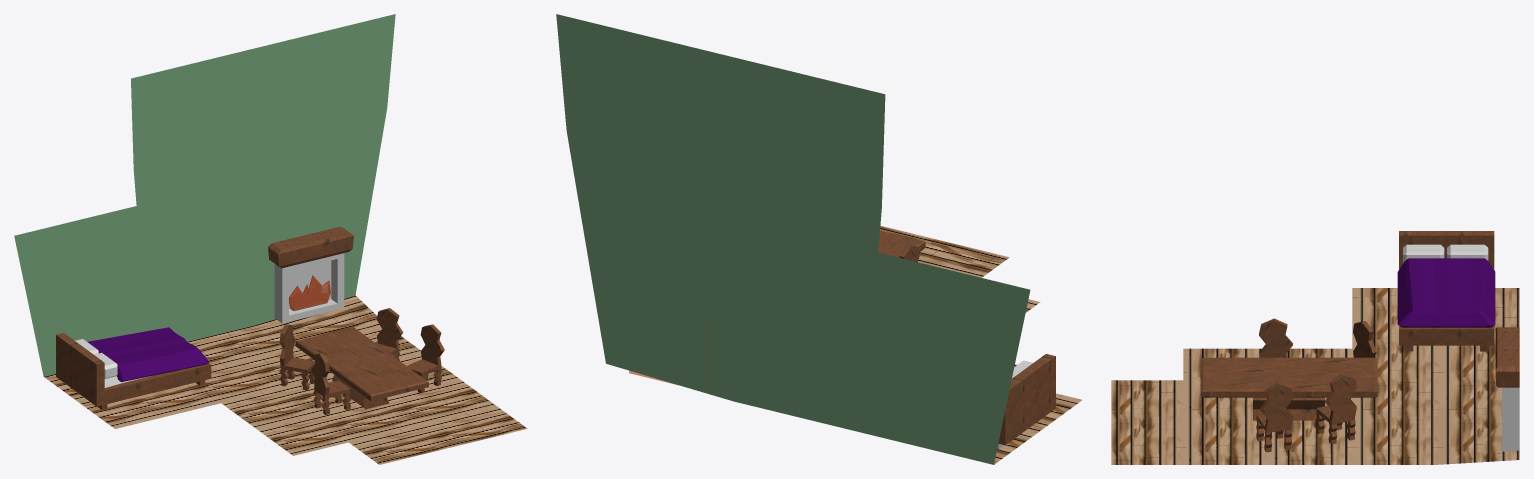
The model's file is tallhouse.fbx.
The picture shows the model from 3 angles, left to right: view 1: azimuth 30°, elevation 25°; view 2: azimuth 150°, elevation 25°; view 3: azimuth 270°, elevation 25°; orthographic projection. The views are drawn at different scales.
Parts seen in each view (by area): view 1: pCube363; view 2: pCube363; view 3: pCube363.
Boxes of the visible parts, x1,y1,x2,y2 form: pCube363: (14, 14, 527, 464); pCube363: (556, 14, 1081, 464); pCube363: (1111, 231, 1519, 464).
Size of the model in its own units: 10.78 by 7.48 by 8.54.
